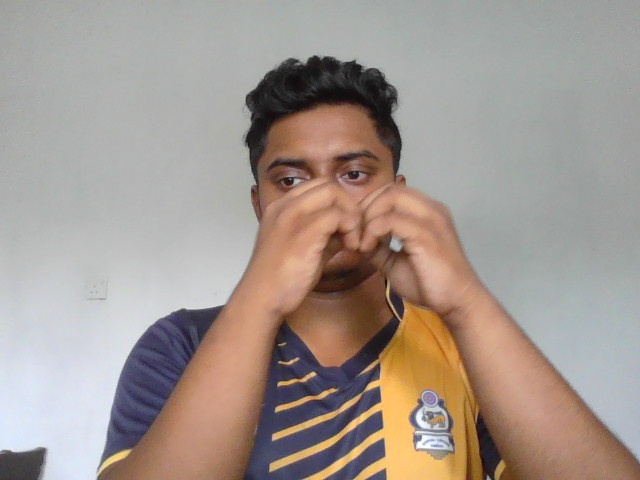More: (250, 175, 472, 317)
